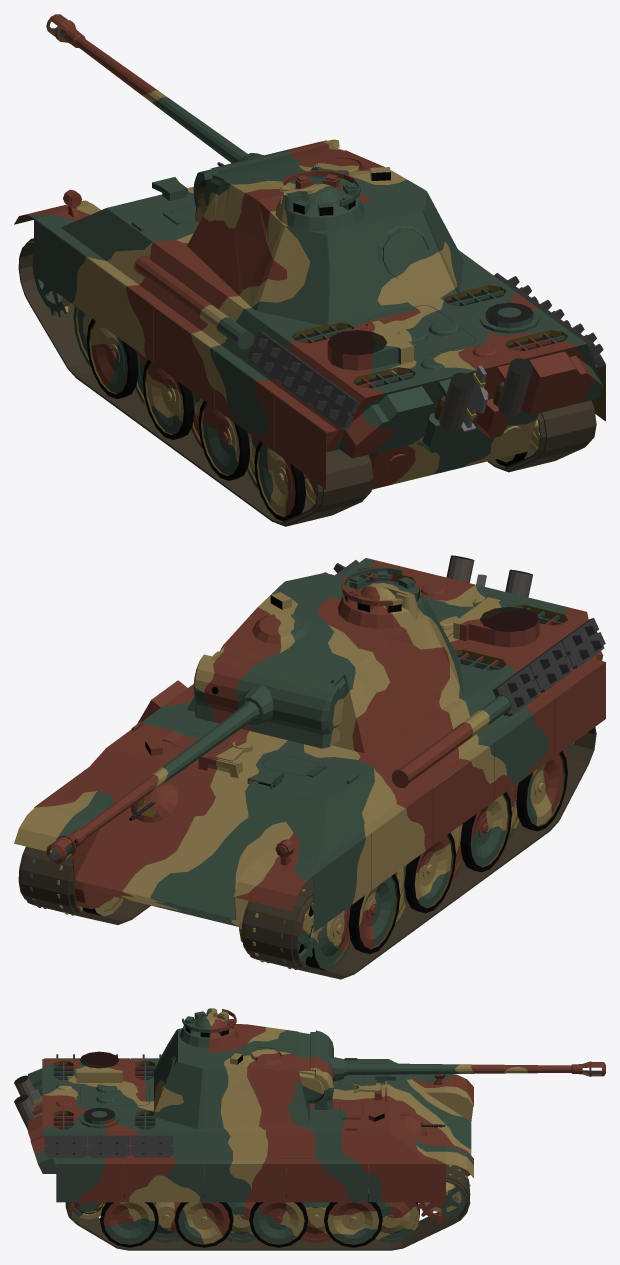
File: Panther.obj
3 views of the same model, one above another, from view 1: azimuth 30°, elevation 25°; view 2: azimuth 150°, elevation 25°; view 3: azimuth 270°, elevation 25° (orthographic). The views are drawn at different scales.
Parts seen in each view (by area): view 1: ShapeIndexedFaceSet.001_ShapeIndexedFaceSet.002, ShapeIndexedFaceSet_ShapeIndexedFaceSet.001, ShapeIndexedFaceSet.016_ShapeIndexedFaceSet.017, ShapeIndexedFaceSet.082_ShapeIndexedFaceSet.083, ShapeIndexedFaceSet.018_ShapeIndexedFaceSet.019, ShapeIndexedFaceSet.139_ShapeIndexedFaceSet.140, ShapeIndexedFaceSet.015_ShapeIndexedFaceSet.016, ShapeIndexedFaceSet.005_ShapeIndexedFaceSet.006, ShapeIndexedFaceSet.002_ShapeIndexedFaceSet.003, ShapeIndexedFaceSet.140_ShapeIndexedFaceSet.141, ShapeIndexedFaceSet.142_ShapeIndexedFaceSet.143, ShapeIndexedFaceSet.138_ShapeIndexedFaceSet.139 (+16 smaller); view 2: ShapeIndexedFaceSet_ShapeIndexedFaceSet.001, ShapeIndexedFaceSet.001_ShapeIndexedFaceSet.002, ShapeIndexedFaceSet.005_ShapeIndexedFaceSet.006, ShapeIndexedFaceSet.015_ShapeIndexedFaceSet.016, ShapeIndexedFaceSet.082_ShapeIndexedFaceSet.083, ShapeIndexedFaceSet.139_ShapeIndexedFaceSet.140, ShapeIndexedFaceSet.016_ShapeIndexedFaceSet.017, ShapeIndexedFaceSet.021_ShapeIndexedFaceSet.022, ShapeIndexedFaceSet.018_ShapeIndexedFaceSet.019, ShapeIndexedFaceSet.140_ShapeIndexedFaceSet.141, ShapeIndexedFaceSet.002_ShapeIndexedFaceSet.003, ShapeIndexedFaceSet.142_ShapeIndexedFaceSet.143 (+17 smaller); view 3: ShapeIndexedFaceSet.001_ShapeIndexedFaceSet.002, ShapeIndexedFaceSet_ShapeIndexedFaceSet.001, ShapeIndexedFaceSet.139_ShapeIndexedFaceSet.140, ShapeIndexedFaceSet.016_ShapeIndexedFaceSet.017, ShapeIndexedFaceSet.005_ShapeIndexedFaceSet.006, ShapeIndexedFaceSet.140_ShapeIndexedFaceSet.141, ShapeIndexedFaceSet.015_ShapeIndexedFaceSet.016, ShapeIndexedFaceSet.138_ShapeIndexedFaceSet.139, ShapeIndexedFaceSet.018_ShapeIndexedFaceSet.019, ShapeIndexedFaceSet.002_ShapeIndexedFaceSet.003, ShapeIndexedFaceSet.021_ShapeIndexedFaceSet.022, ShapeIndexedFaceSet.142_ShapeIndexedFaceSet.143 (+31 smaller).
Part boxes in pixels (x1=…): ShapeIndexedFaceSet.001_ShapeIndexedFaceSet.002: x1=27, y1=177, x2=604, y2=474; ShapeIndexedFaceSet_ShapeIndexedFaceSet.001: x1=14, y1=189, x2=596, y2=489; ShapeIndexedFaceSet.016_ShapeIndexedFaceSet.017: x1=204, y1=150, x2=463, y2=326; ShapeIndexedFaceSet.082_ShapeIndexedFaceSet.083: x1=18, y1=238, x2=373, y2=526; ShapeIndexedFaceSet.018_ShapeIndexedFaceSet.019: x1=203, y1=140, x2=456, y2=307; ShapeIndexedFaceSet.139_ShapeIndexedFaceSet.140: x1=126, y1=286, x2=326, y2=489; ShapeIndexedFaceSet.015_ShapeIndexedFaceSet.016: x1=187, y1=141, x2=384, y2=295; ShapeIndexedFaceSet.005_ShapeIndexedFaceSet.006: x1=61, y1=186, x2=536, y2=484; ShapeIndexedFaceSet.002_ShapeIndexedFaceSet.003: x1=171, y1=204, x2=605, y2=429; ShapeIndexedFaceSet.140_ShapeIndexedFaceSet.141: x1=34, y1=219, x2=605, y2=435; ShapeIndexedFaceSet.142_ShapeIndexedFaceSet.143: x1=72, y1=257, x2=226, y2=401; ShapeIndexedFaceSet.138_ShapeIndexedFaceSet.139: x1=487, y1=400, x2=596, y2=472; ShapeIndexedFaceSet_ShapeIndexedFaceSet.001: x1=35, y1=560, x2=604, y2=911; ShapeIndexedFaceSet.001_ShapeIndexedFaceSet.002: x1=51, y1=558, x2=566, y2=926; ShapeIndexedFaceSet.005_ShapeIndexedFaceSet.006: x1=14, y1=585, x2=501, y2=942; ShapeIndexedFaceSet.015_ShapeIndexedFaceSet.016: x1=215, y1=576, x2=449, y2=753; ShapeIndexedFaceSet.082_ShapeIndexedFaceSet.083: x1=241, y1=727, x2=596, y2=979; ShapeIndexedFaceSet.139_ShapeIndexedFaceSet.140: x1=34, y1=662, x2=605, y2=850; ShapeIndexedFaceSet.016_ShapeIndexedFaceSet.017: x1=187, y1=567, x2=463, y2=719; ShapeIndexedFaceSet.021_ShapeIndexedFaceSet.022: x1=162, y1=669, x2=339, y2=784; ShapeIndexedFaceSet.018_ShapeIndexedFaceSet.019: x1=210, y1=583, x2=459, y2=750; ShapeIndexedFaceSet.140_ShapeIndexedFaceSet.141: x1=313, y1=714, x2=548, y2=932; ShapeIndexedFaceSet.002_ShapeIndexedFaceSet.003: x1=171, y1=560, x2=605, y2=775; ShapeIndexedFaceSet.142_ShapeIndexedFaceSet.143: x1=34, y1=747, x2=507, y2=904; ShapeIndexedFaceSet.001_ShapeIndexedFaceSet.002: x1=28, y1=1058, x2=473, y2=1173; ShapeIndexedFaceSet_ShapeIndexedFaceSet.001: x1=28, y1=1059, x2=473, y2=1202; ShapeIndexedFaceSet.139_ShapeIndexedFaceSet.140: x1=79, y1=1164, x2=445, y2=1202; ShapeIndexedFaceSet.016_ShapeIndexedFaceSet.017: x1=153, y1=1008, x2=322, y2=1128; ShapeIndexedFaceSet.005_ShapeIndexedFaceSet.006: x1=43, y1=1066, x2=473, y2=1177; ShapeIndexedFaceSet.140_ShapeIndexedFaceSet.141: x1=56, y1=1164, x2=382, y2=1202; ShapeIndexedFaceSet.015_ShapeIndexedFaceSet.016: x1=208, y1=1010, x2=320, y2=1126; ShapeIndexedFaceSet.138_ShapeIndexedFaceSet.139: x1=65, y1=1164, x2=469, y2=1250; ShapeIndexedFaceSet.018_ShapeIndexedFaceSet.019: x1=154, y1=1008, x2=324, y2=1127; ShapeIndexedFaceSet.002_ShapeIndexedFaceSet.003: x1=44, y1=1054, x2=363, y2=1157; ShapeIndexedFaceSet.021_ShapeIndexedFaceSet.022: x1=314, y1=1030, x2=465, y2=1109; ShapeIndexedFaceSet.142_ShapeIndexedFaceSet.143: x1=129, y1=1164, x2=262, y2=1202.
Size of the model in its own units: 32.4 by 29.51 by 88.83.
